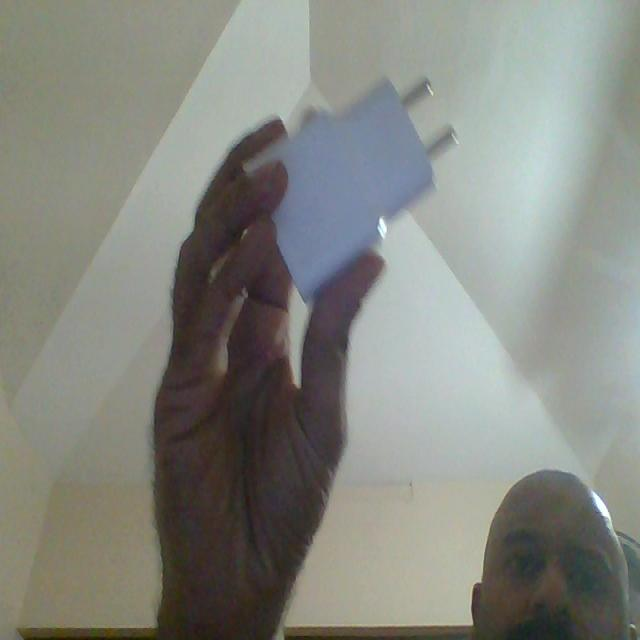charger: (245, 80, 434, 299)
